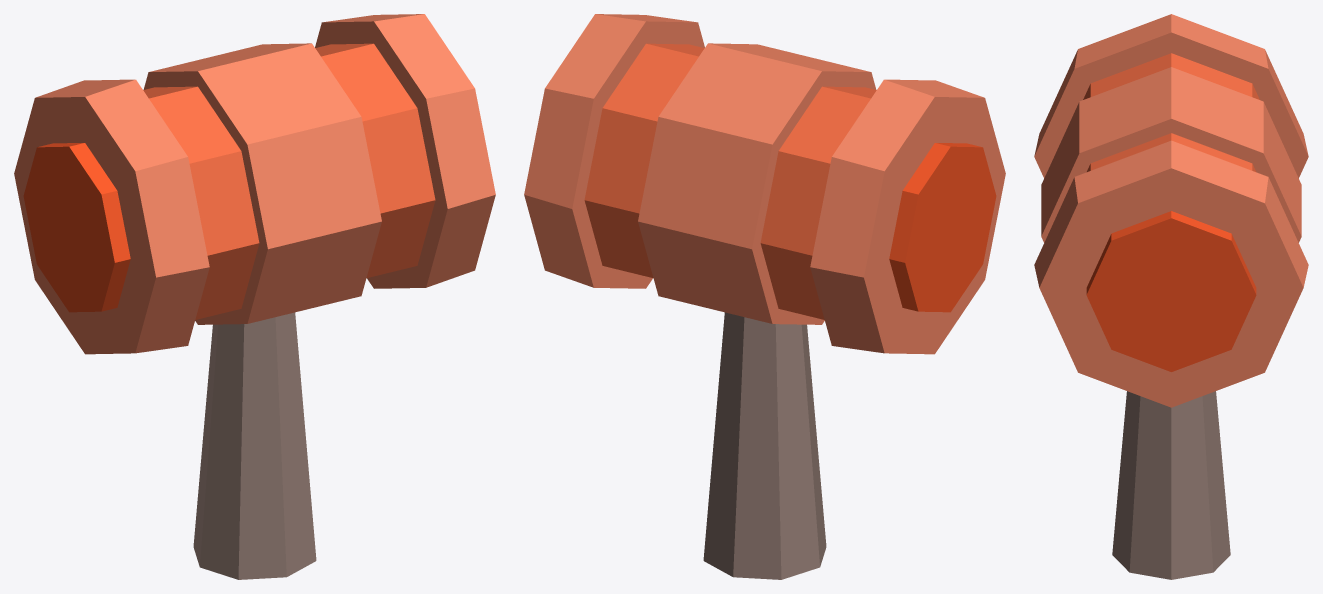
File: Hammer.fbx
3 renders of one model, left to right at view 1: azimuth 30°, elevation 25°; view 2: azimuth 150°, elevation 25°; view 3: azimuth 270°, elevation 25°, orthographic. The views are drawn at different scales.
Visible parts, largest first — view 1: Lv_01; view 2: Lv_01; view 3: Lv_01.
Boxes of the visible parts, <box> form: Lv_01: <box>14,14,495,579</box>; Lv_01: <box>524,14,1005,579</box>; Lv_01: <box>1034,14,1308,579</box>.
Bounding box in the file's own units: 1.35 × 1.74 × 0.9266.
